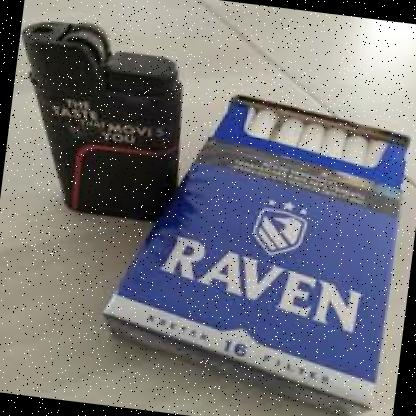bungkus rokok: (86, 66, 416, 416)
